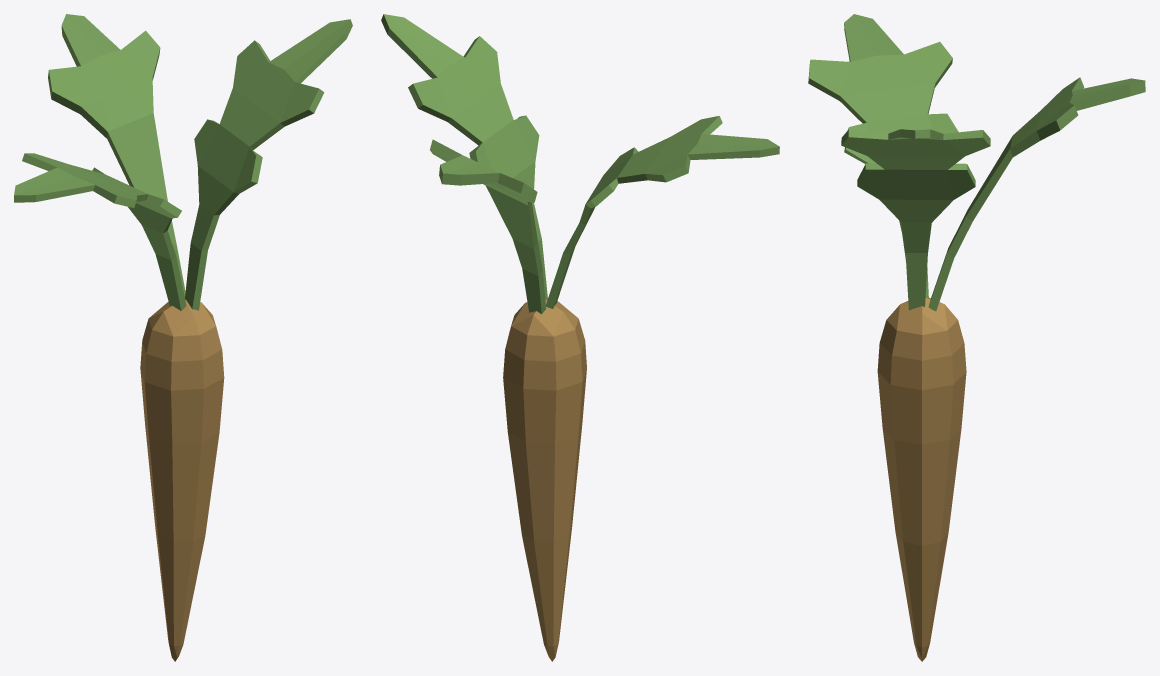
The model's file is Carrot_3.gltf.
3 renders of one model, left to right at view 1: azimuth 30°, elevation 25°; view 2: azimuth 150°, elevation 25°; view 3: azimuth 270°, elevation 25°, orthographic. The views are drawn at different scales.
Visible parts, largest first — view 1: Carrot_3; view 2: Carrot_3; view 3: Carrot_3.
Part boxes in pixels (box(x1,y1,x2,y2)): Carrot_3: box(14, 14, 352, 661); Carrot_3: box(381, 14, 779, 661); Carrot_3: box(808, 14, 1145, 661).
Size of the model in its own units: 0.3336 by 0.5215 by 0.2582.
